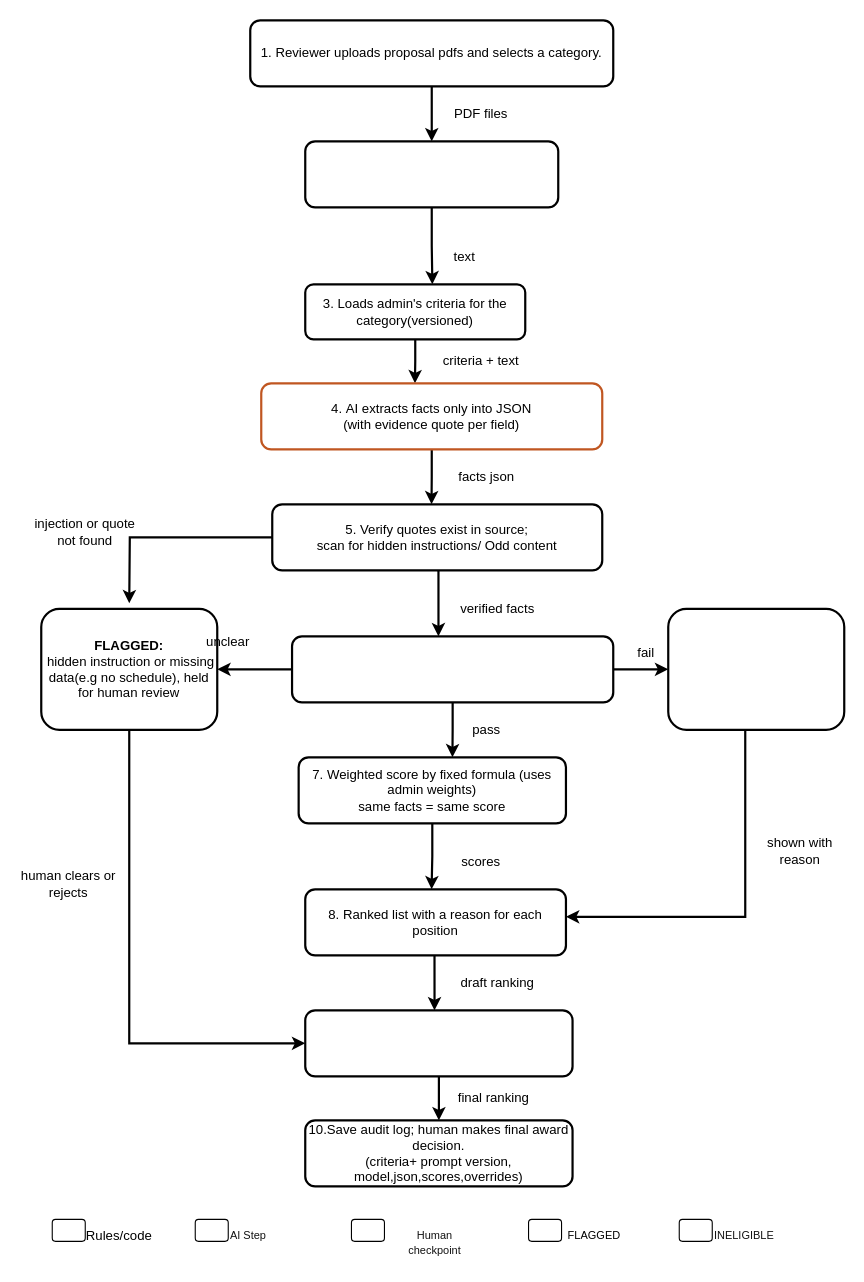
Image size: 864x1282. Some labels were removed from this diagram. The shapes that lost their labels are listed below. From the top down, each one's centre as x and y in pixels, then its label:
At (431,174): "2. Extracts text from each pdf.".
At (452,669): "6. Mandatory checks(rules): licence held by bidder, WSIB, $5M insurance".
At (756,668): "INELIGIBLE: fails a mandatory check, (e.g licence not held by bidder) not scored".
At (438,1043): "9.Human reviewer: confirm, clear flags, or override (reason required)".
